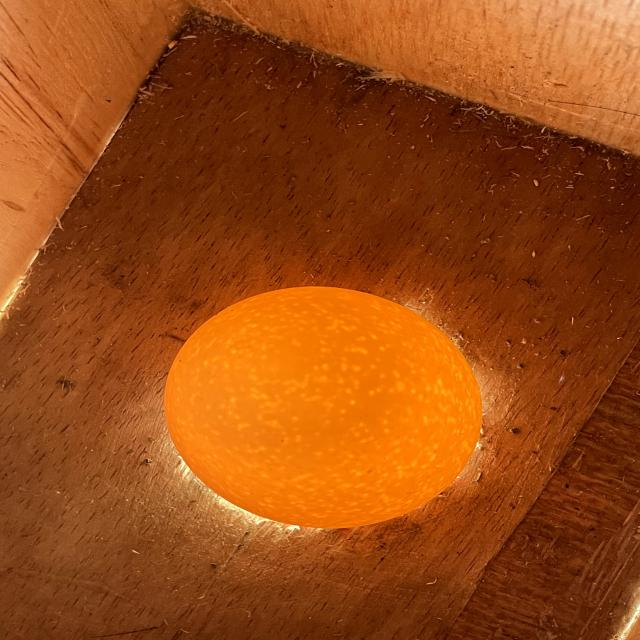infertile: (165, 286, 482, 527)
